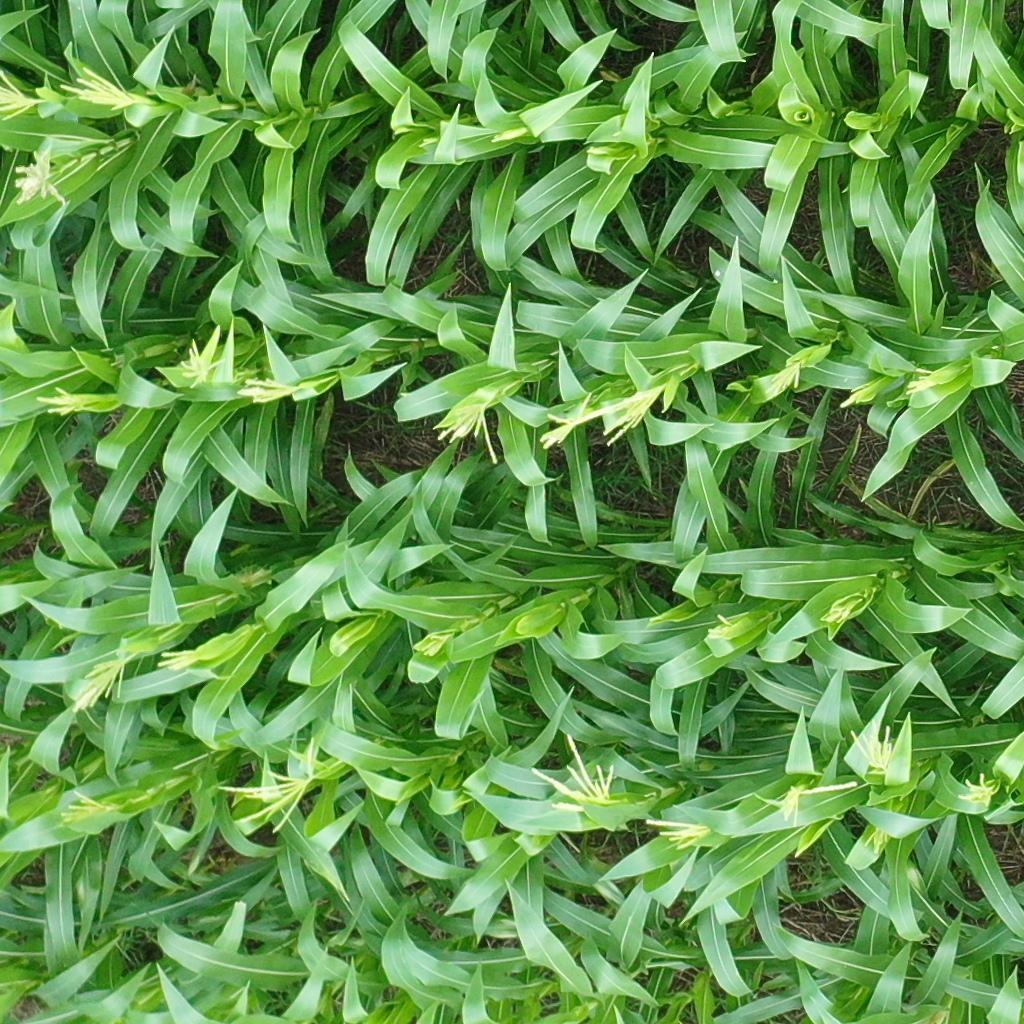Tassel: (210, 735, 325, 837), (528, 731, 623, 822), (540, 388, 668, 449), (432, 384, 502, 467), (753, 777, 863, 827), (9, 144, 73, 206), (55, 786, 138, 831), (73, 652, 135, 711), (55, 69, 138, 111), (845, 717, 904, 772), (643, 812, 718, 855), (36, 383, 115, 419), (236, 375, 318, 407), (1, 69, 44, 122), (181, 337, 224, 386), (154, 640, 209, 675), (958, 767, 999, 812), (417, 626, 462, 667), (766, 357, 802, 393), (817, 602, 857, 633), (905, 365, 938, 401), (704, 615, 741, 646), (488, 126, 531, 149), (864, 828, 894, 856), (836, 388, 862, 410), (585, 146, 615, 157), (416, 134, 438, 148)
